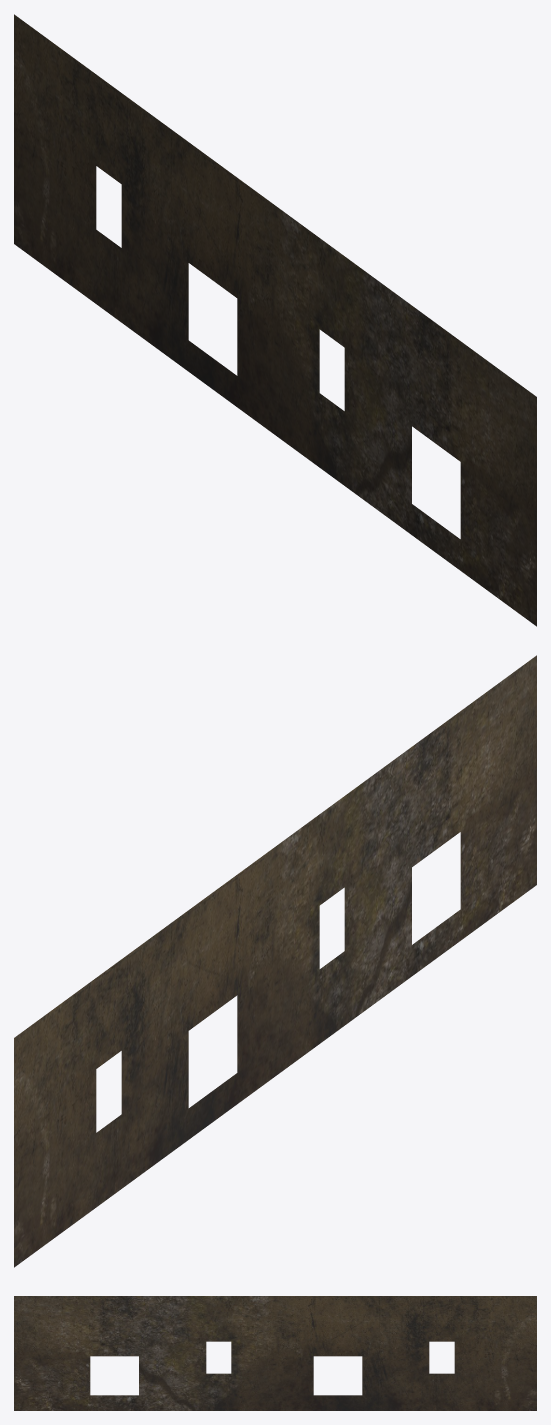
File: Wall_02.FBX
3 renders of one model, top to bottom at view 1: azimuth 30°, elevation 25°; view 2: azimuth 150°, elevation 25°; view 3: azimuth 270°, elevation 25°, orthographic. The views are drawn at different scales.
Parts seen in each view (by area): view 1: Wall_02; view 2: Wall_02; view 3: Wall_02.
Boxes of the visible parts, box(x1,y1,x2,y2) form: Wall_02: box(14, 14, 536, 626); Wall_02: box(14, 655, 536, 1267); Wall_02: box(14, 1296, 536, 1410).
Bounding box in the file's own units: 0.000791 × 511 × 2109.
